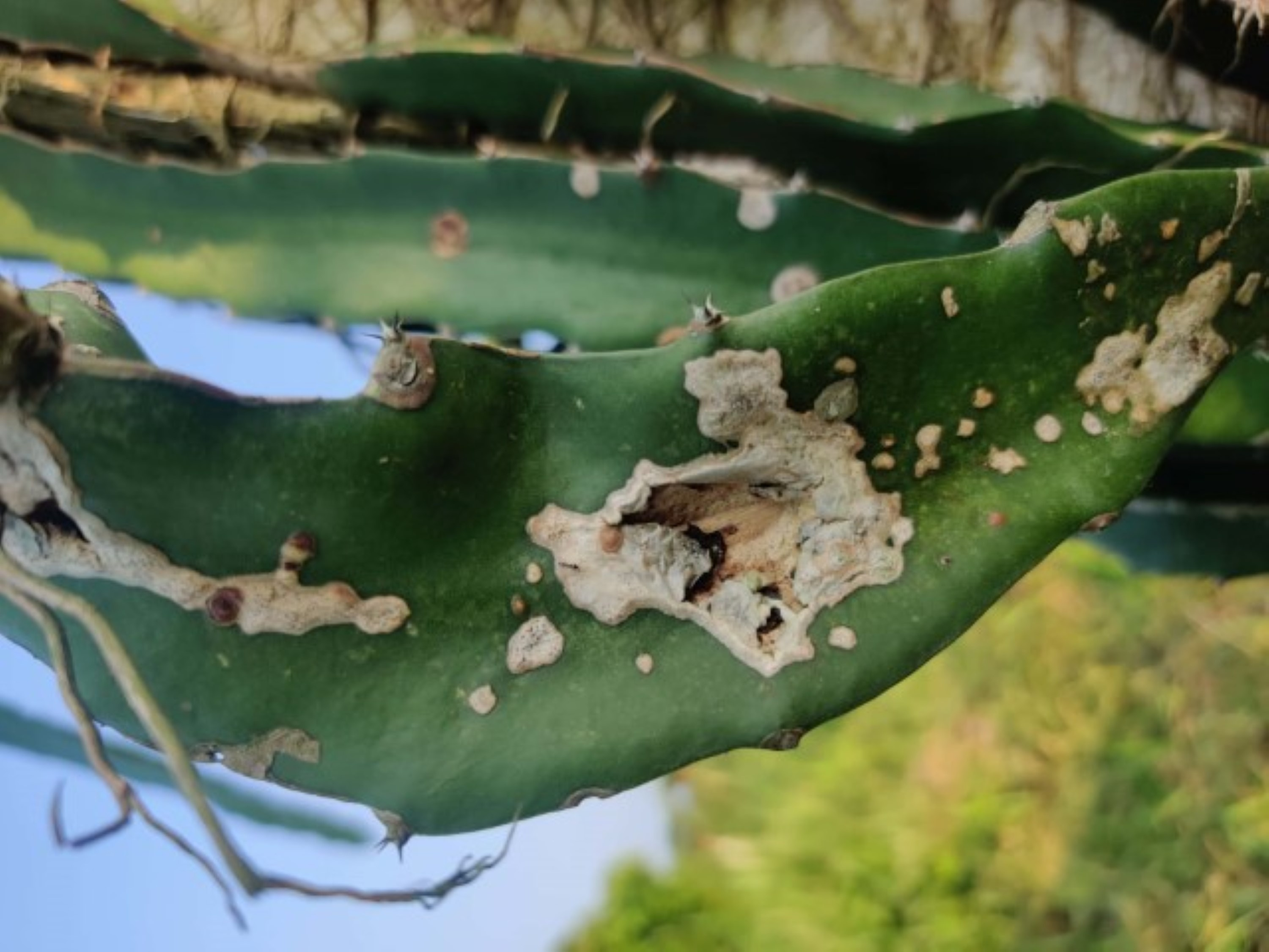stemcanker: (0, 233, 1254, 768)
